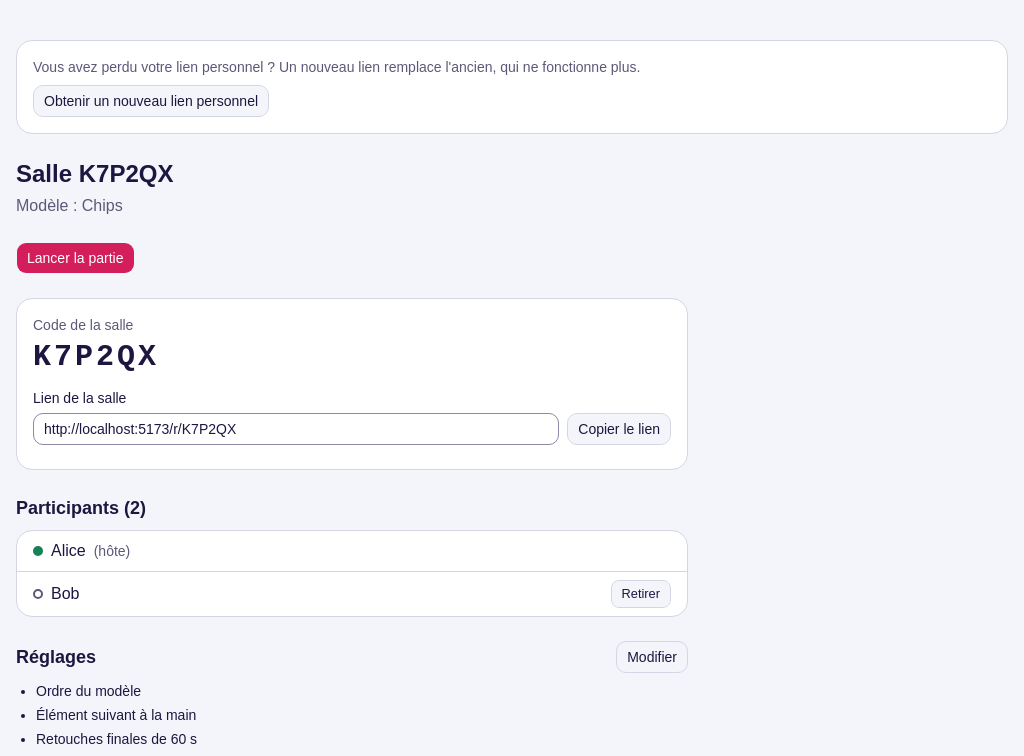
Test: StartGameButton › says why the game cannot start
What coordinates should you click on to do the following:
click the button "Lancer la partie"
I would click on:
 (75, 258)
Its box is [16,242,134,274].
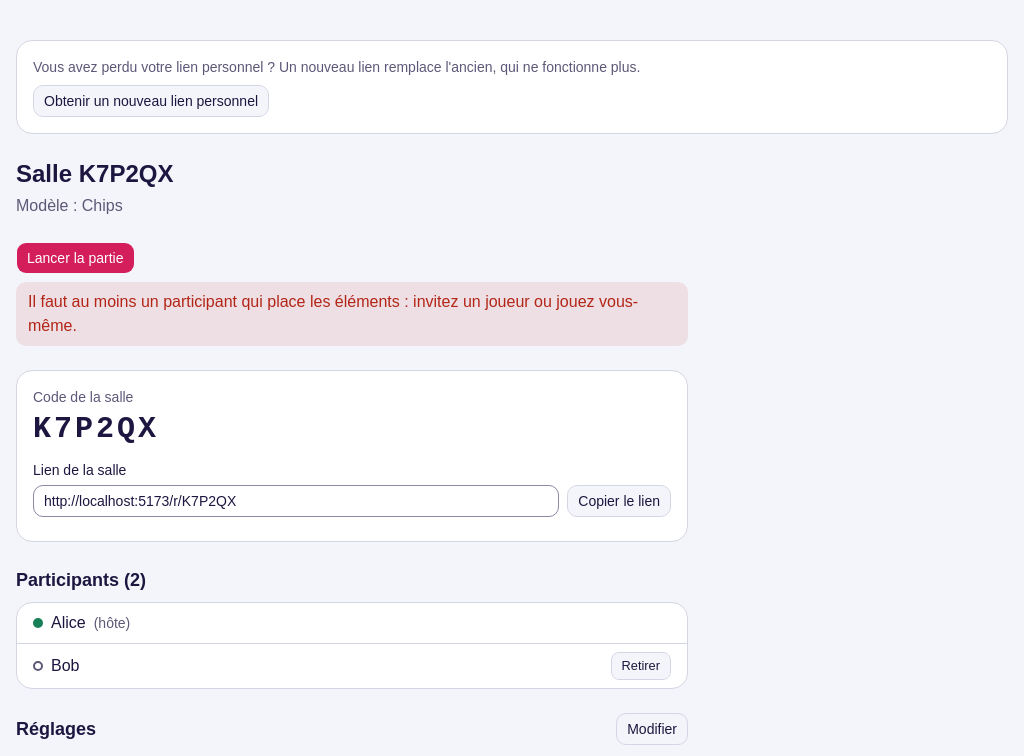
Expected: the message shows "Il faut au moins un participant qui place les éléments", [28,293,638,334]
